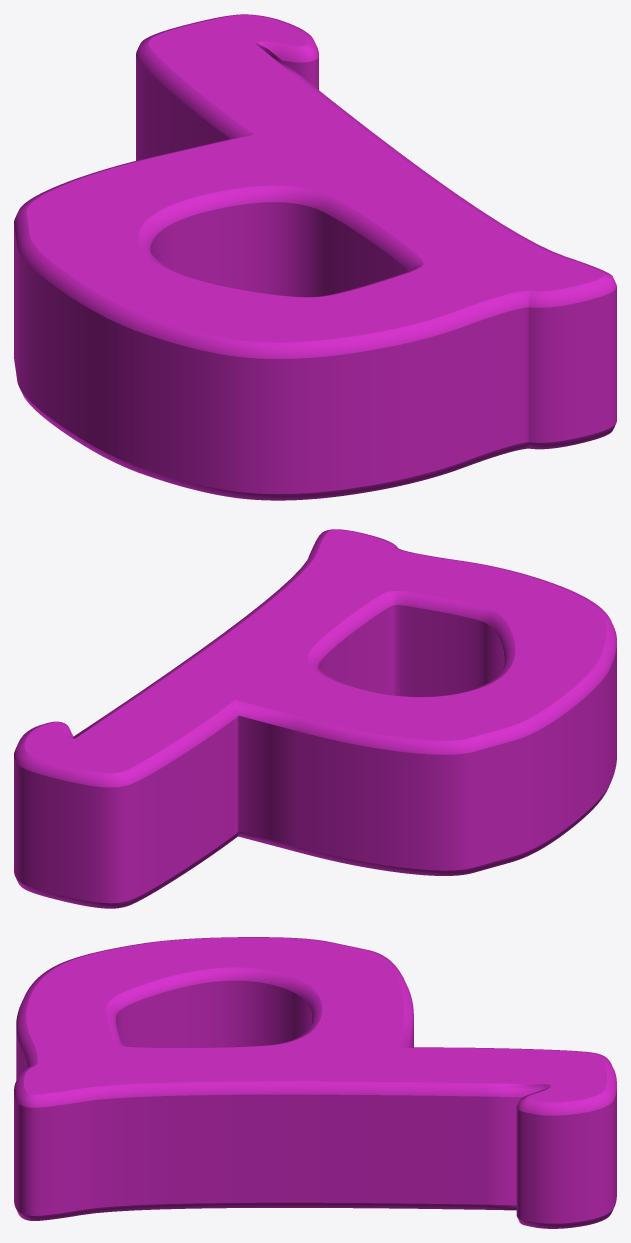
File: Bubble_Letter_p.fbx
3 renders of one model, top to bottom at view 1: azimuth 30°, elevation 25°; view 2: azimuth 150°, elevation 25°; view 3: azimuth 270°, elevation 25°, orthographic. The views are drawn at different scales.
Parts seen in each view (by area): view 1: BubbleLetter_p; view 2: BubbleLetter_p; view 3: BubbleLetter_p.
Part boxes in pixels (x1,y1,x2,y2): BubbleLetter_p: [14, 14, 616, 500]; BubbleLetter_p: [14, 529, 616, 908]; BubbleLetter_p: [14, 937, 616, 1228].
Size of the model in its own units: 0.413 by 0.14 by 0.6066.
